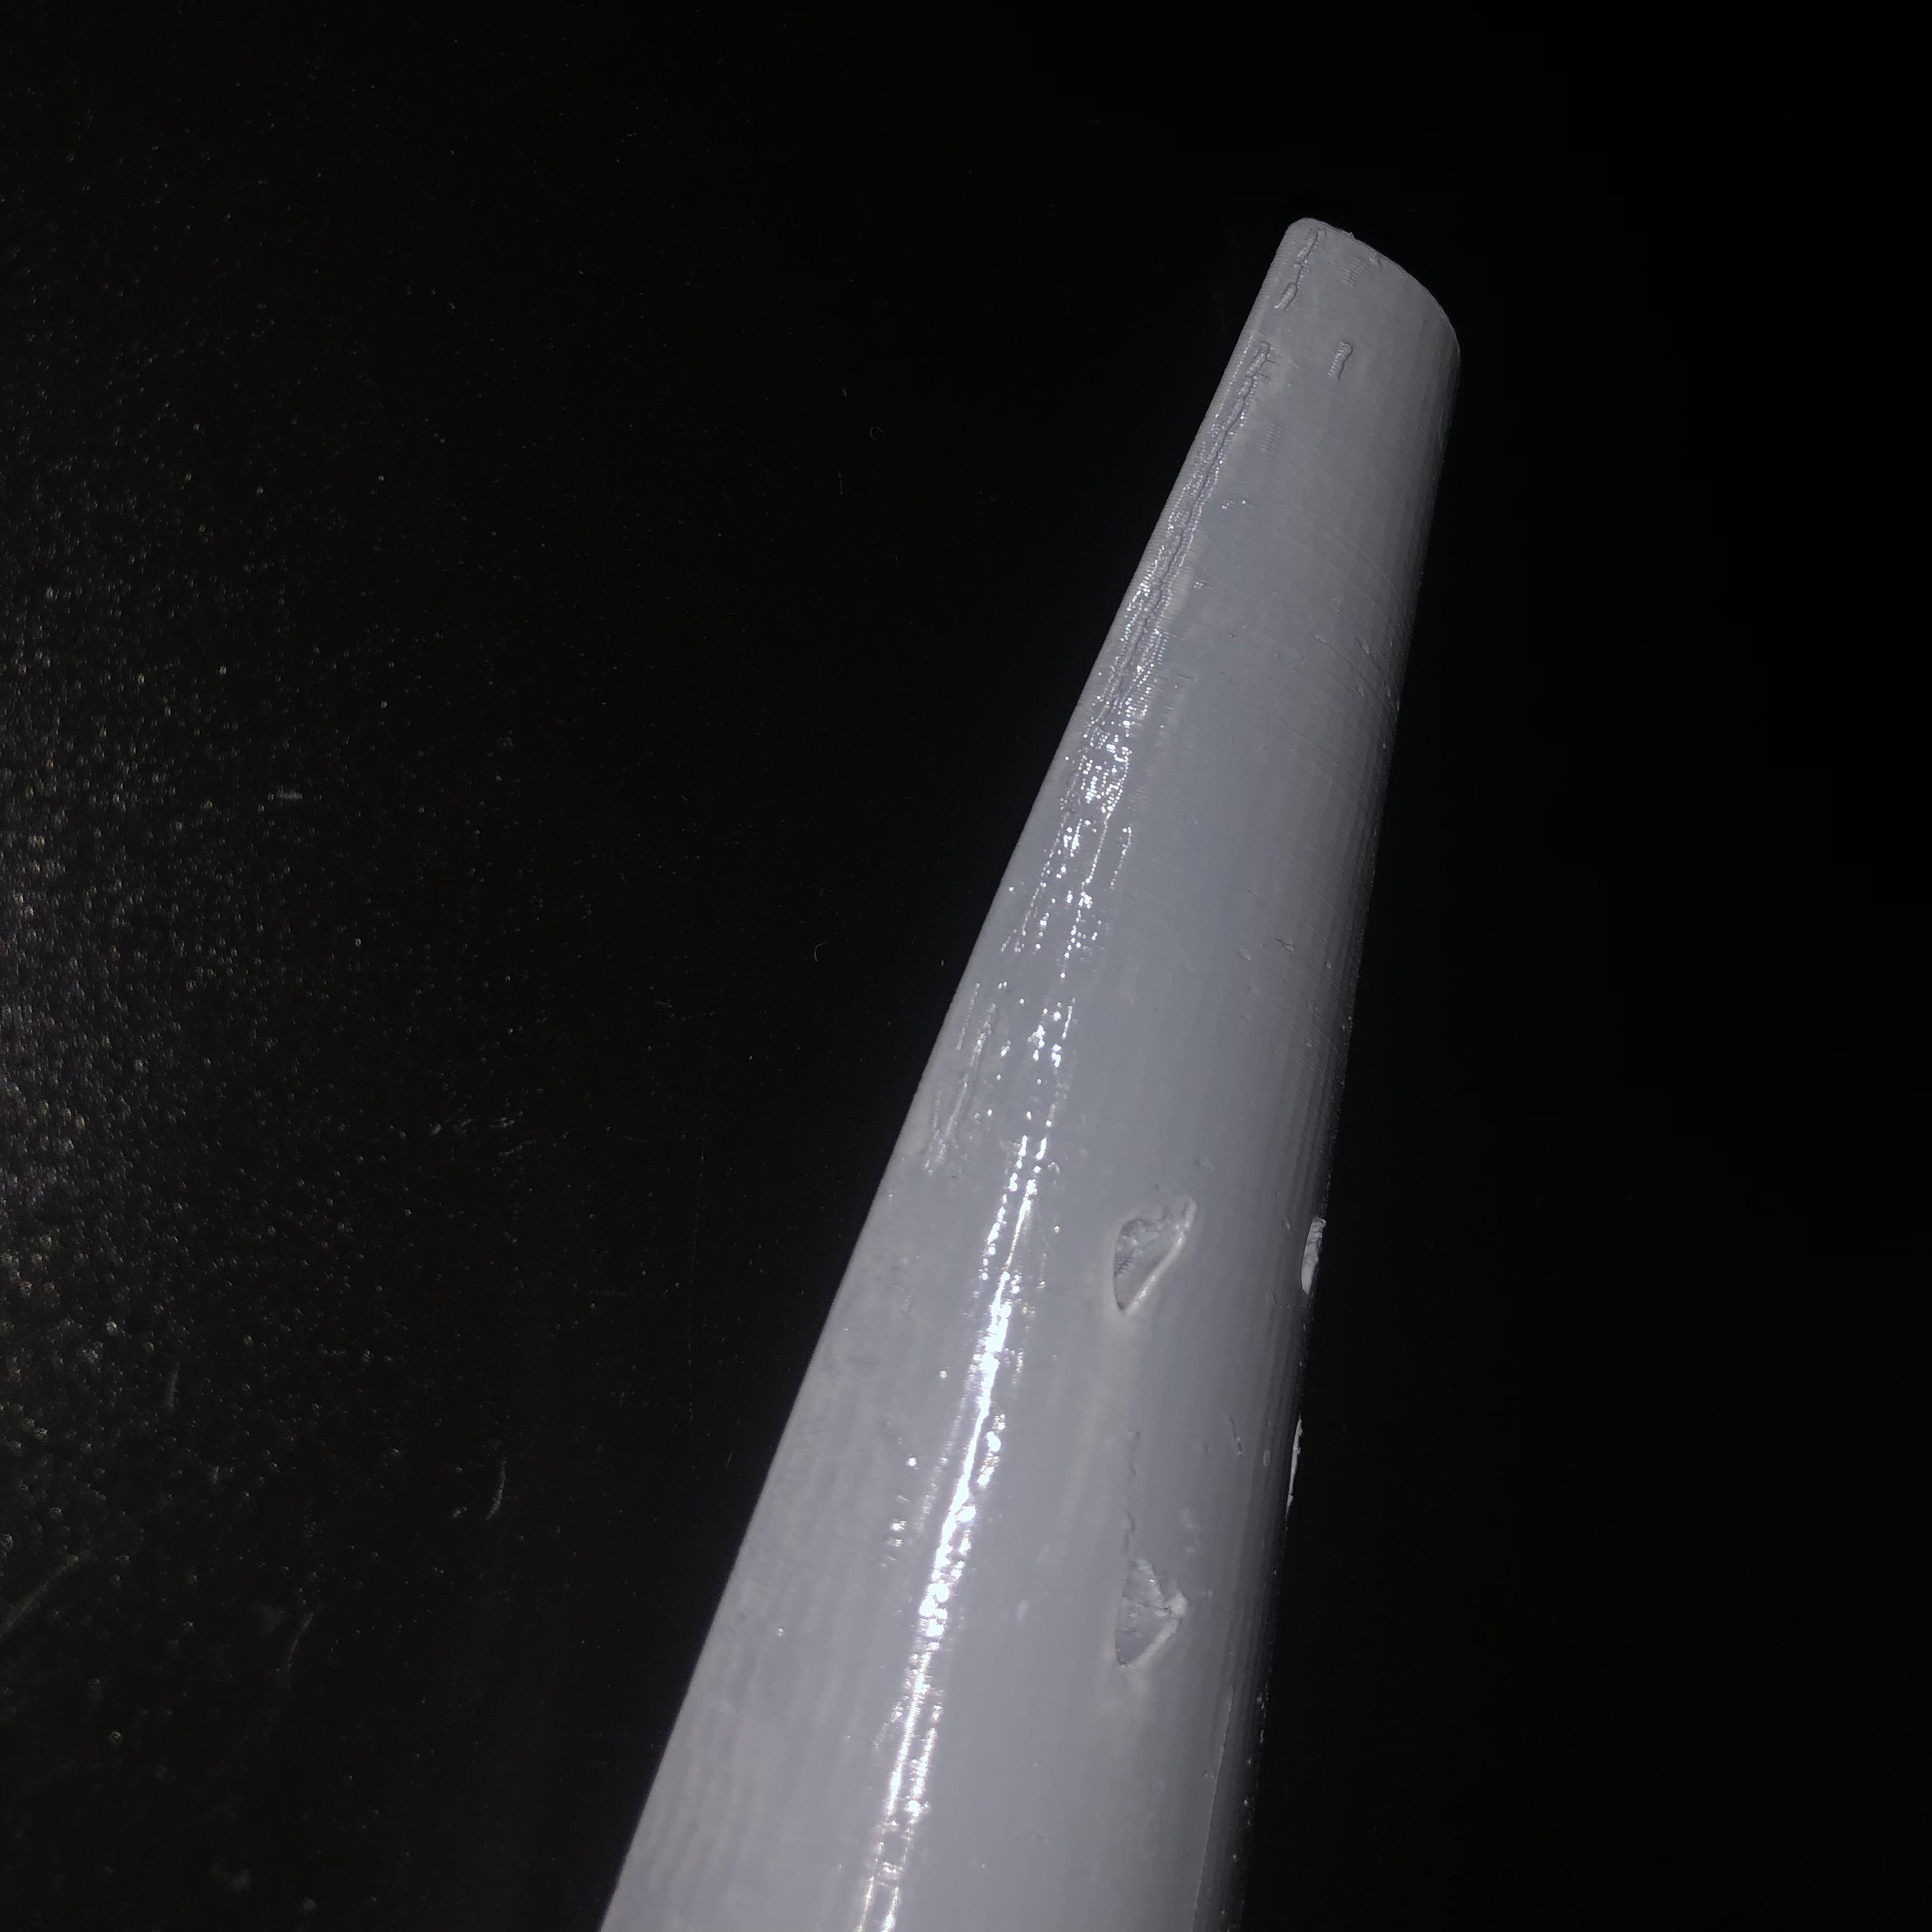breakdown: (1290, 1214, 1336, 1525), (1100, 1214, 1212, 1316), (1118, 1553, 1201, 1677)
